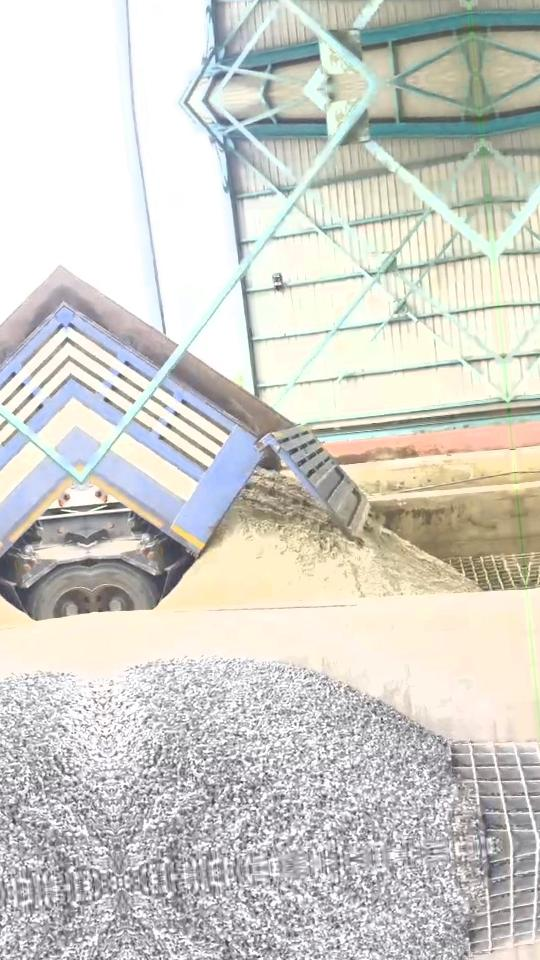gravel: (101, 657, 477, 881)
sand: (160, 470, 477, 608)
